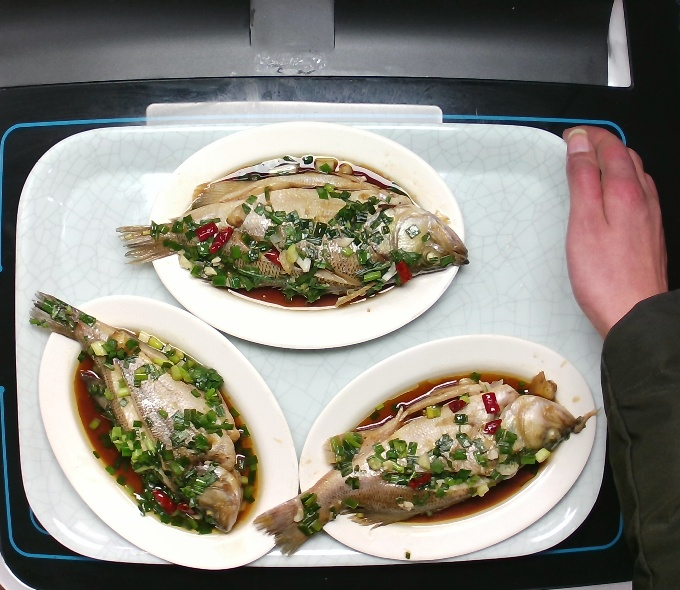wcq-LuYu: (252, 362, 601, 563), (25, 286, 265, 541), (116, 151, 478, 316)
